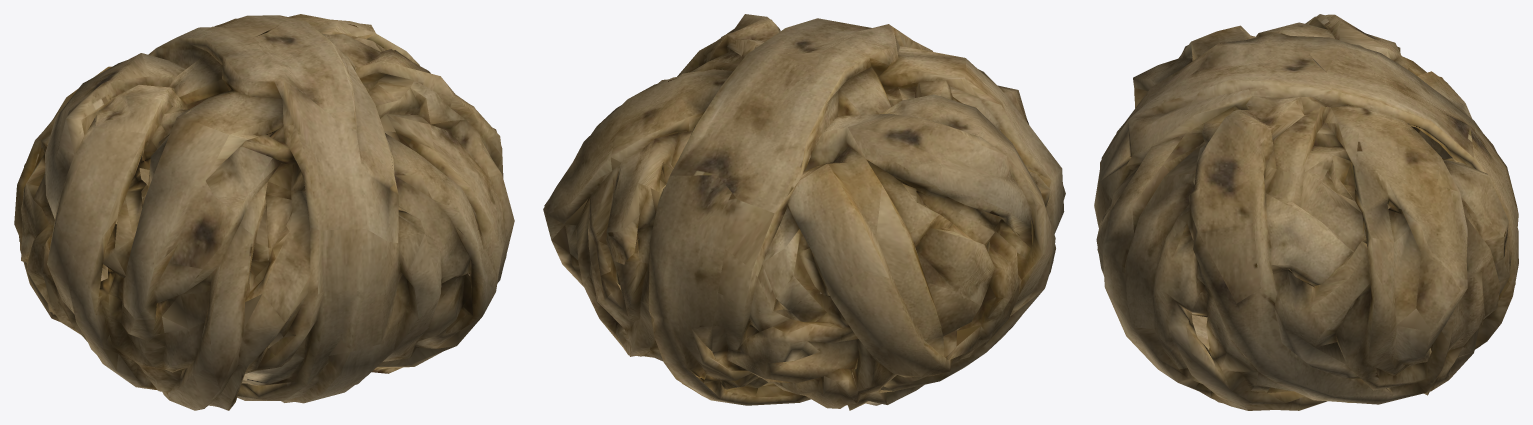
The model's file is mummy_scrap.glb.
The picture shows the model from 3 angles, left to right: view 1: azimuth 30°, elevation 25°; view 2: azimuth 150°, elevation 25°; view 3: azimuth 270°, elevation 25°; orthographic projection. The views are drawn at different scales.
Visible parts, largest first — view 1: mummy_part_scrap_LOD0; view 2: mummy_part_scrap_LOD0; view 3: mummy_part_scrap_LOD0.
Part boxes in pixels (<box>): mummy_part_scrap_LOD0: <box>14,14,514,410</box>; mummy_part_scrap_LOD0: <box>543,14,1065,410</box>; mummy_part_scrap_LOD0: <box>1094,14,1518,410</box>.
Size of the model in its own units: 0.15 by 0.1144 by 0.1339.
Materials: 1 (1 with a texture image).
